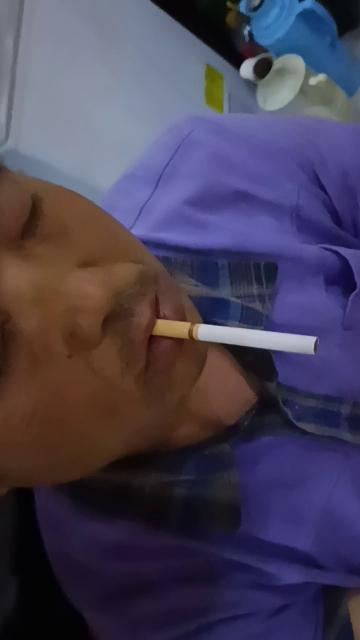Cigarette: (151, 317, 321, 358)
